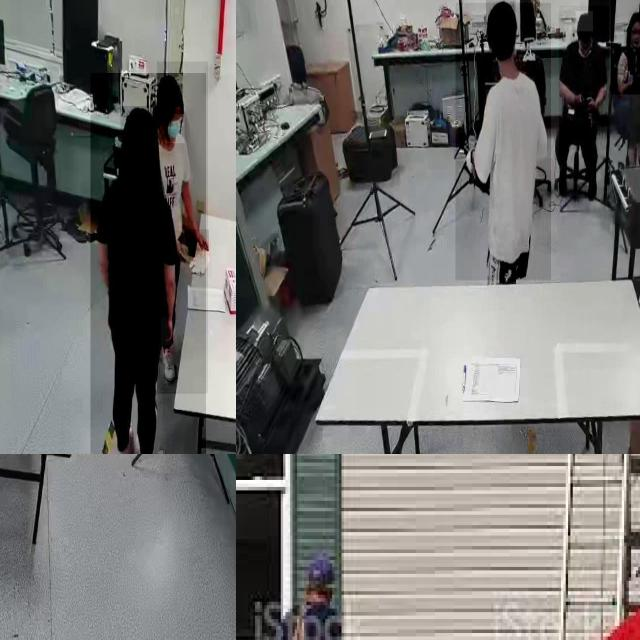Harness: (261, 603, 351, 640)
face_mask: (165, 114, 185, 143)
face_nomask: (628, 24, 640, 46)
hand_noglove: (193, 230, 209, 252), (161, 317, 173, 346), (581, 94, 596, 114), (575, 90, 585, 111)
head_nohelmet: (120, 106, 158, 149), (157, 73, 183, 108), (486, 0, 516, 26), (576, 11, 594, 32), (628, 10, 640, 23)
person: (90, 72, 206, 454), (456, 3, 552, 281), (157, 61, 209, 394), (559, 6, 609, 200), (611, 0, 640, 95)
shoes: (157, 335, 179, 383), (113, 418, 138, 454), (133, 436, 171, 454)
